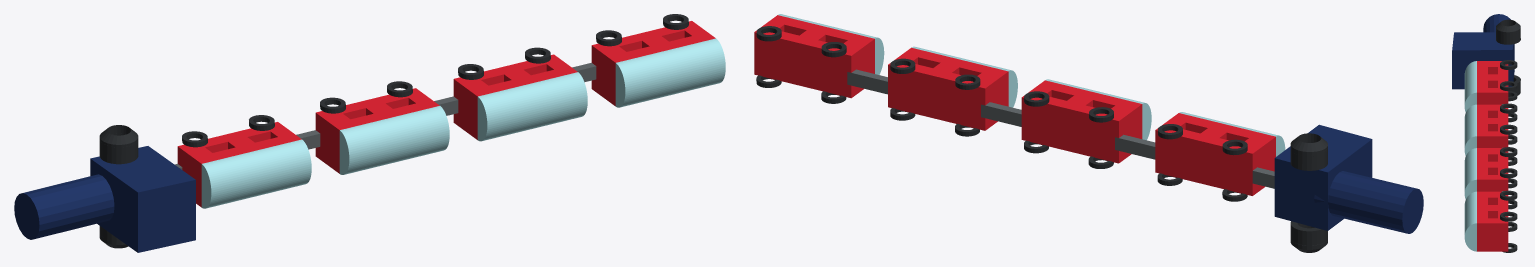
The model's file is tinker.obj.
3 renders of one model, left to right at view 1: azimuth 30°, elevation 25°; view 2: azimuth 150°, elevation 25°; view 3: azimuth 270°, elevation 25°, orthographic. The views are drawn at different scales.
Visible parts, largest first — view 1: group_0_11593967, group_0_15277357, group_0_1650274, group_0_2829873, group_0_6383466; view 2: group_0_15277357, group_0_1650274, group_0_2829873, group_0_6383466, group_0_11593967; view 3: group_0_15277357, group_0_2829873, group_0_1650274, group_0_11593967.
Part boxes in pixels (x1,y1,x2,y2): group_0_11593967: [201, 38, 725, 208]; group_0_15277357: [177, 21, 715, 207]; group_0_1650274: [14, 146, 195, 252]; group_0_2829873: [99, 14, 688, 248]; group_0_6383466: [175, 63, 596, 169]; group_0_15277357: [754, 15, 1275, 195]; group_0_1650274: [1274, 124, 1423, 233]; group_0_2829873: [756, 26, 1327, 252]; group_0_6383466: [847, 69, 1274, 188]; group_0_11593967: [778, 14, 1285, 156]; group_0_15277357: [1477, 61, 1508, 251]; group_0_2829873: [1496, 19, 1520, 252]; group_0_1650274: [1452, 14, 1514, 89]; group_0_11593967: [1464, 61, 1476, 251].
Bounding box in the file's own units: 80.5 × 12.97 × 11.
